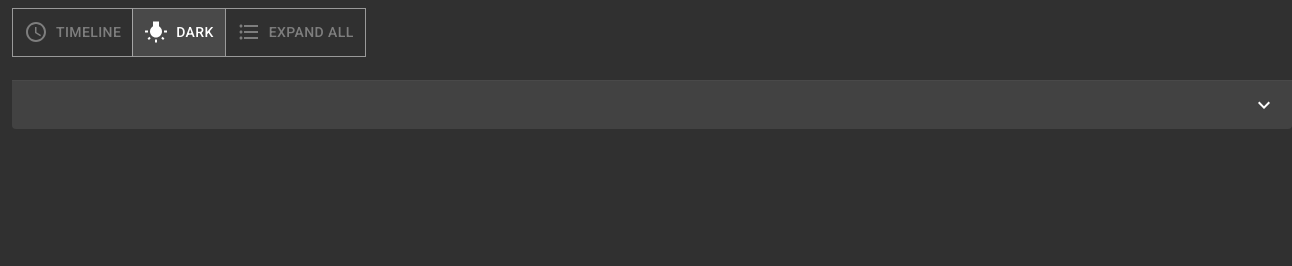
Test case: has a working 'show details' toggle › successfully toggles details
Expected: the text "Alpha" is not shown
Expected: the text "Bravo" is not shown
Click the button with test id "toggle-details" at {"x": 295, "y": 32}, box top-left (225, 8), bottom-right (366, 56)
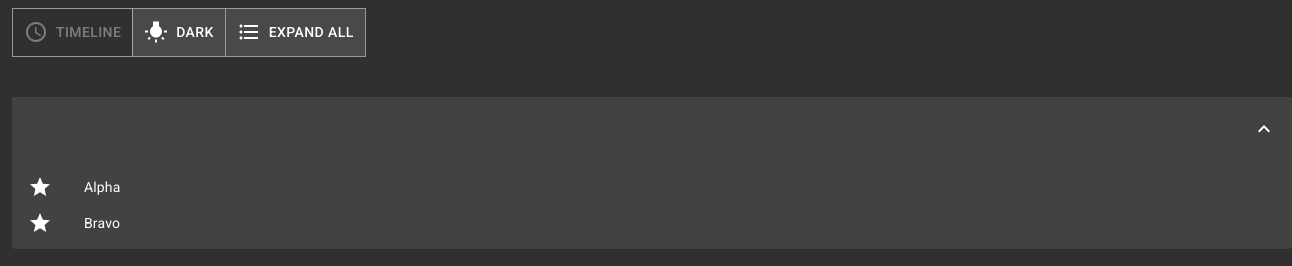
Expected: the text "Alpha" is shown, top-left (84, 178), bottom-right (120, 194)
Expected: the text "Bravo" is shown, top-left (84, 214), bottom-right (120, 230)
Click the button with test id "toggle-details" at {"x": 296, "y": 32}, box top-left (226, 8), bottom-right (366, 56)
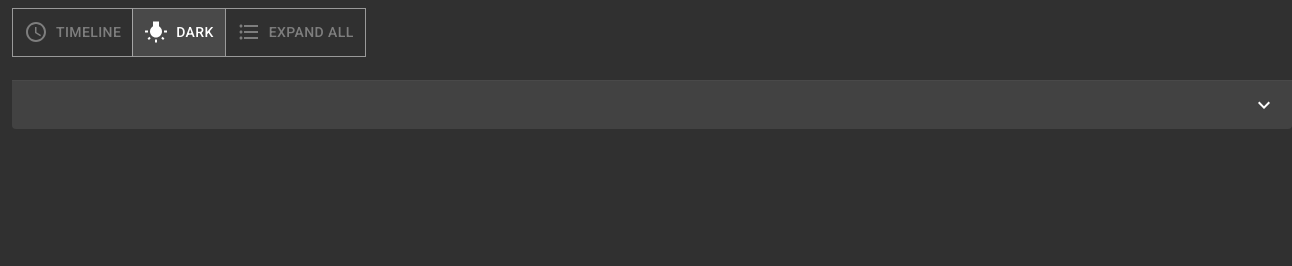
Expected: the text "Alpha" is gone
Expected: the text "Bravo" is gone
